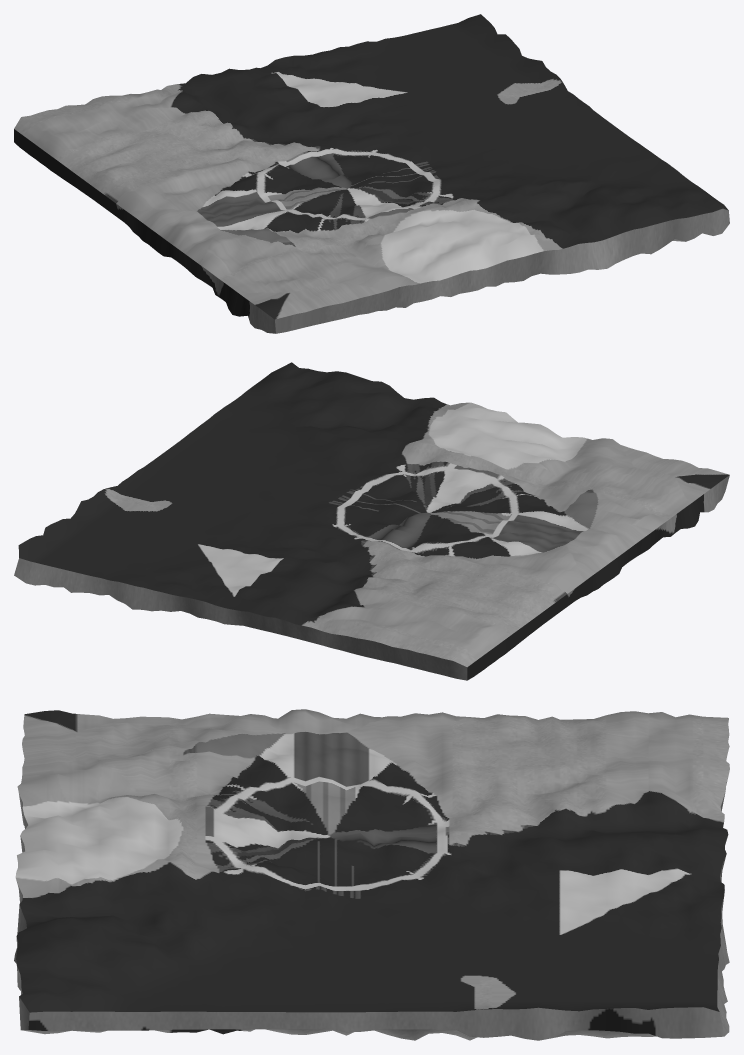
3 renders of one model, top to bottom at view 1: azimuth 30°, elevation 25°; view 2: azimuth 150°, elevation 25°; view 3: azimuth 270°, elevation 25°, orthographic. The views are drawn at different scales.
Parts seen in each view (by area): view 1: pCube1; view 2: pCube1; view 3: pCube1.
Part boxes in pixels (x1,y1,x2,y2): pCube1: (14,14,729,333); pCube1: (14,362,729,680); pCube1: (14,709,729,1040).
Bounding box in the file's own units: 20.71 × 1.97 × 20.85.
